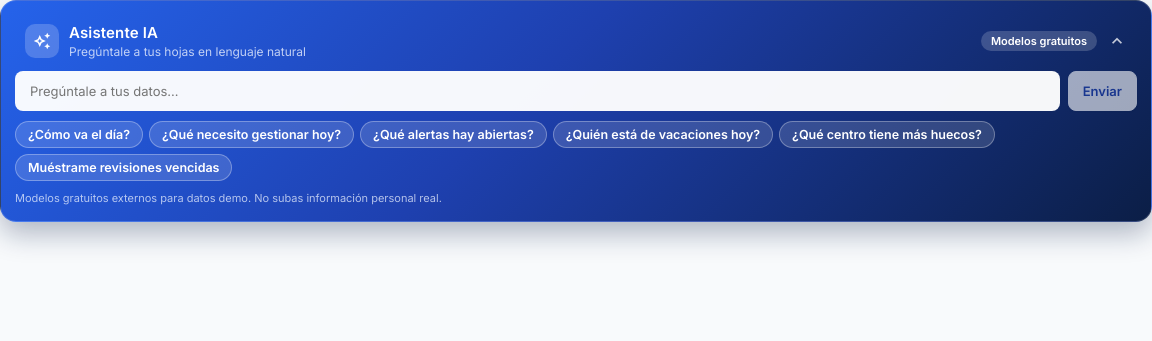
Test: CopilotPanel › renderiza la negrita markdown de la respuesta sin mostrar asteriscos
This screenshot has width=1152, height=341.
Type "¿Cómo va el día?" into the field named "pregunta al copiloto" at point(537, 91), box 15,71 -> 1060,111
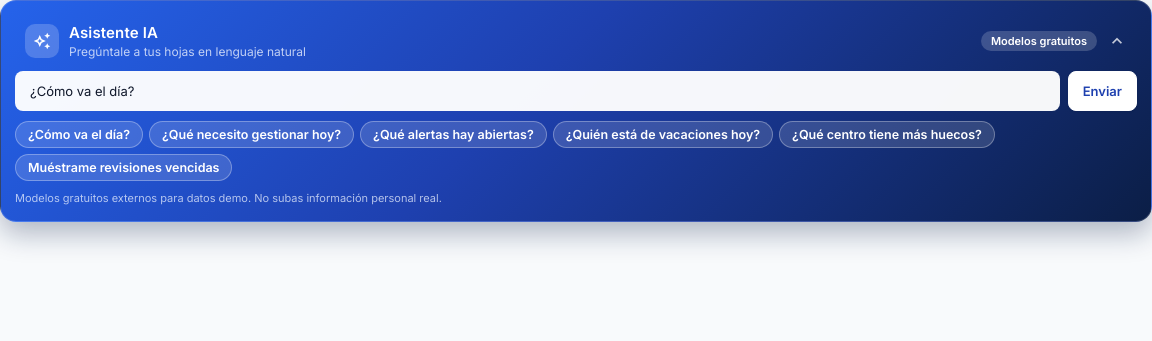
Press Enter in the field named "pregunta al copiloto", box 15,71 -> 1060,111
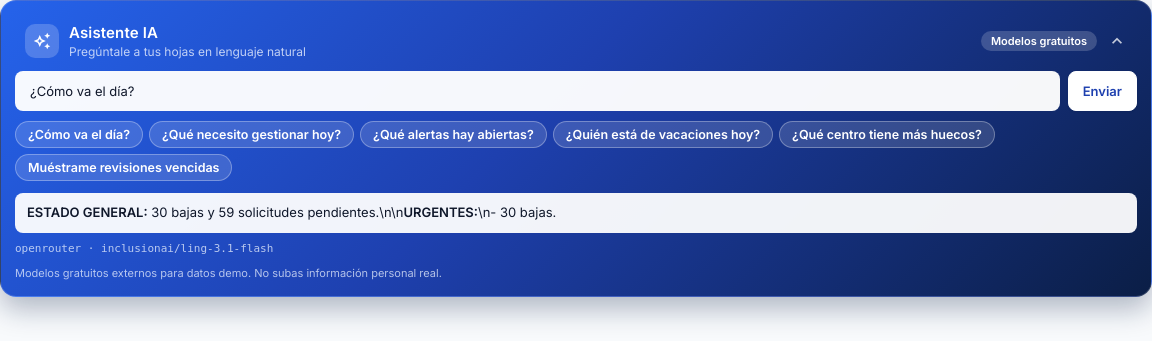
Expected: the message shows "URGENTES:", 403,204 -> 478,220
Expected: the text "ESTADO GENERAL:" is shown, 27,204 -> 148,220
